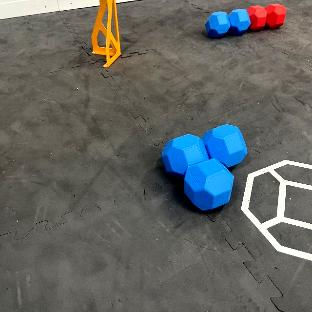V5_BLUE: (162, 123, 247, 210), (184, 159, 233, 210), (202, 125, 247, 166), (206, 12, 230, 37)
V5_RED: (248, 4, 286, 31), (248, 5, 267, 30), (267, 4, 285, 27)
